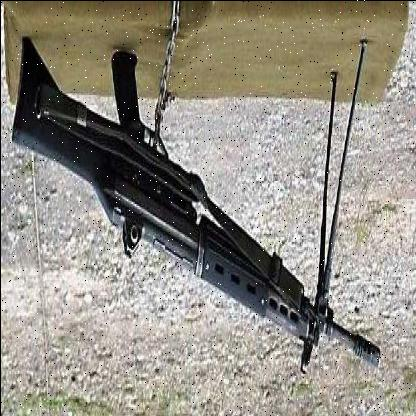rifle: (6, 31, 382, 378)
